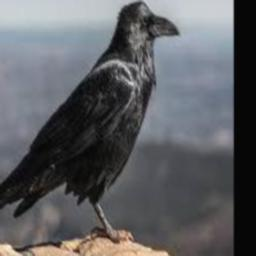Crow: (0, 0, 179, 243)
